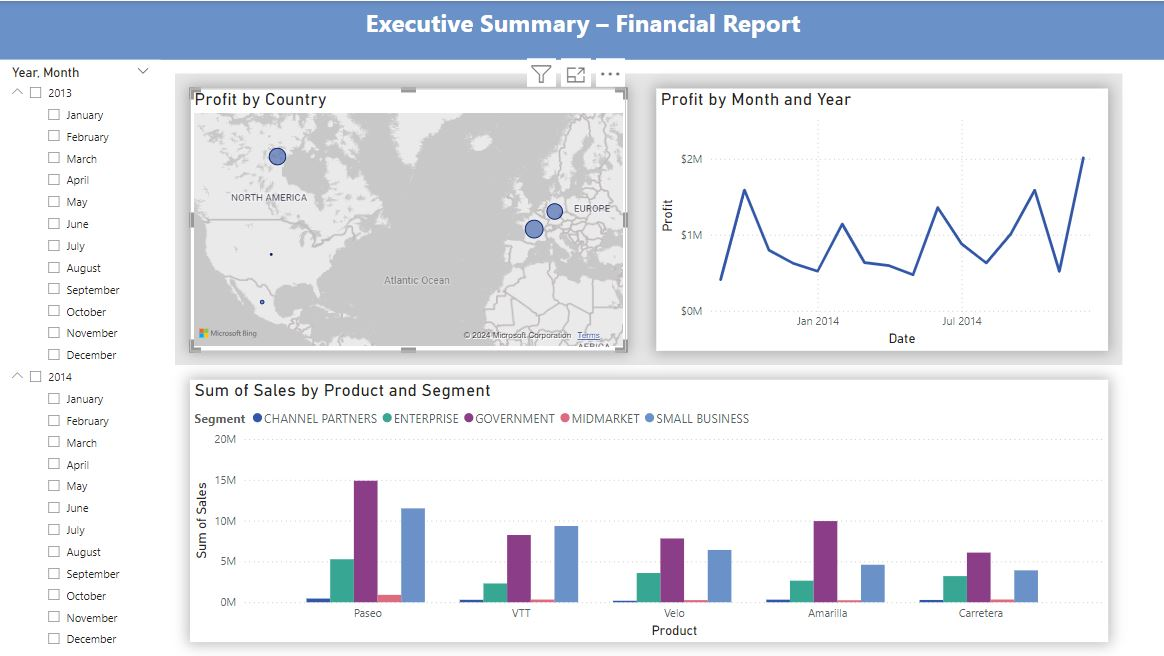

This screenshot's page, from the dashboard's own definition file:
{"tool":"powerbi","page":{"name":"Page 1","canvas":[1280,720],"ordinal":0},"visuals":[{"type":"shape","box":[192,80,1040,320],"z":0},{"type":"shape","box":[0,0,1280,64],"z":1000},{"type":"textbox","box":[0,0,1280,64],"z":2000},{"type":"lineChart","title":"Profit by Month and Year","fields":{"Y":["Sum(financials.Profit)"],"Category":["Calendar.Date"]},"box":[720,96,496,288],"z":3000},{"type":"map","fields":{"Category":["financials.Country"],"Size":["Sum(financials.Profit)"]},"box":[208,96,480,288],"z":4000},{"type":"clusteredColumnChart","fields":{"Y":["Sum(financials. Sales)"],"Category":["financials.Product"],"Series":["financials.Segment"]},"box":[208,416,1008,288],"z":5000},{"type":"slicer","fields":{"Values":["Calendar.Date.Variation.Date Hierarchy.Year","Calendar.Date.Variation.Date Hierarchy.Month"]},"box":[0,64,176,656],"z":7000}]}

Visuals, with their boxes in screenshot pixels (x1, y1, x2, y2):
shape: 187:72:1120:359
shape: 15:0:1163:57
textbox: 15:0:1163:57
"Profit by Month and Year" lineChart: 661:86:1106:344
map - financials.Country x Sum(financials.Profit): 202:86:632:344
clusteredColumnChart - Sum(financials. Sales) x financials.Product: 202:373:1106:631
slicer - Calendar.Date.Variation.Date Hierarchy.Year x Calendar.Date.Variation.Date Hierarchy.Month: 15:57:173:646
